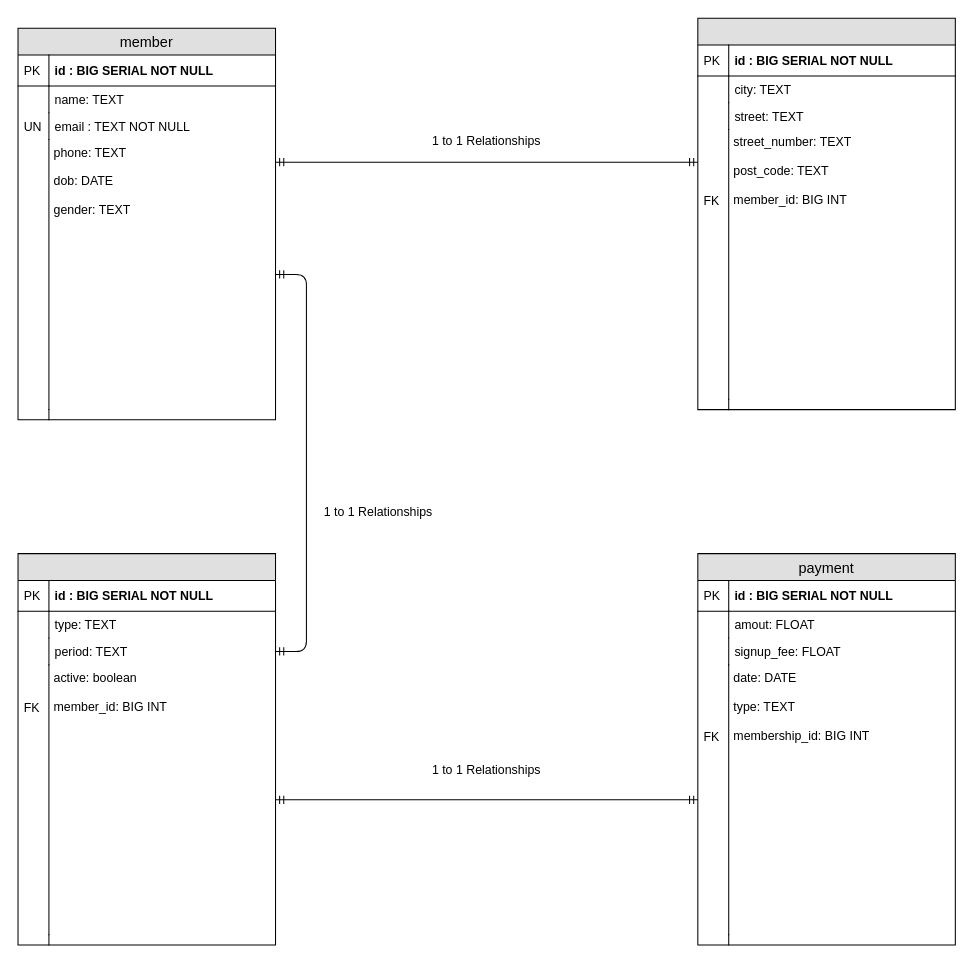
Image size: 973x963. Some labels were removed from this diagram. The shapes that lost their labels are listed below. From the top down, each one's box as (x1, y1, x2, y2) in pixels, then its label:
(697, 17, 955, 410): address
(17, 553, 276, 945): membership
